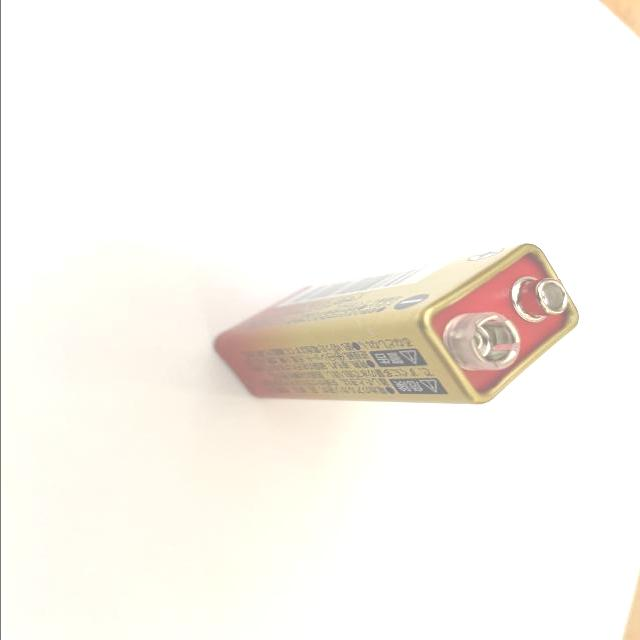9V: (216, 242, 578, 406)
